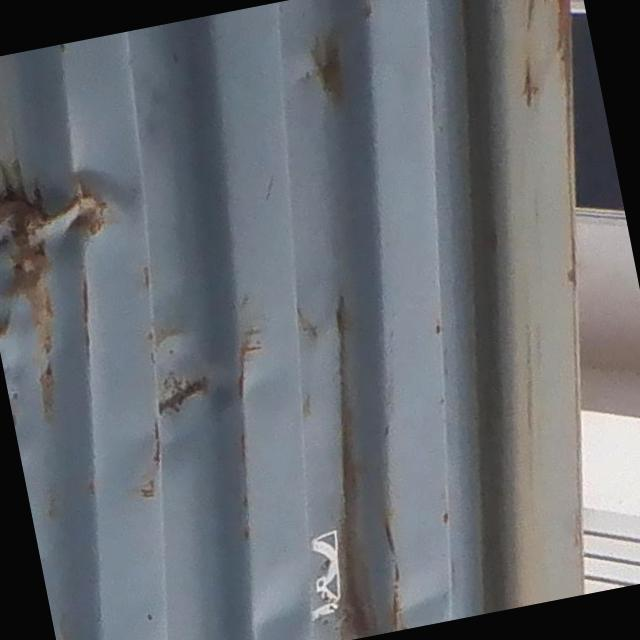rust: (1, 157, 172, 345)
